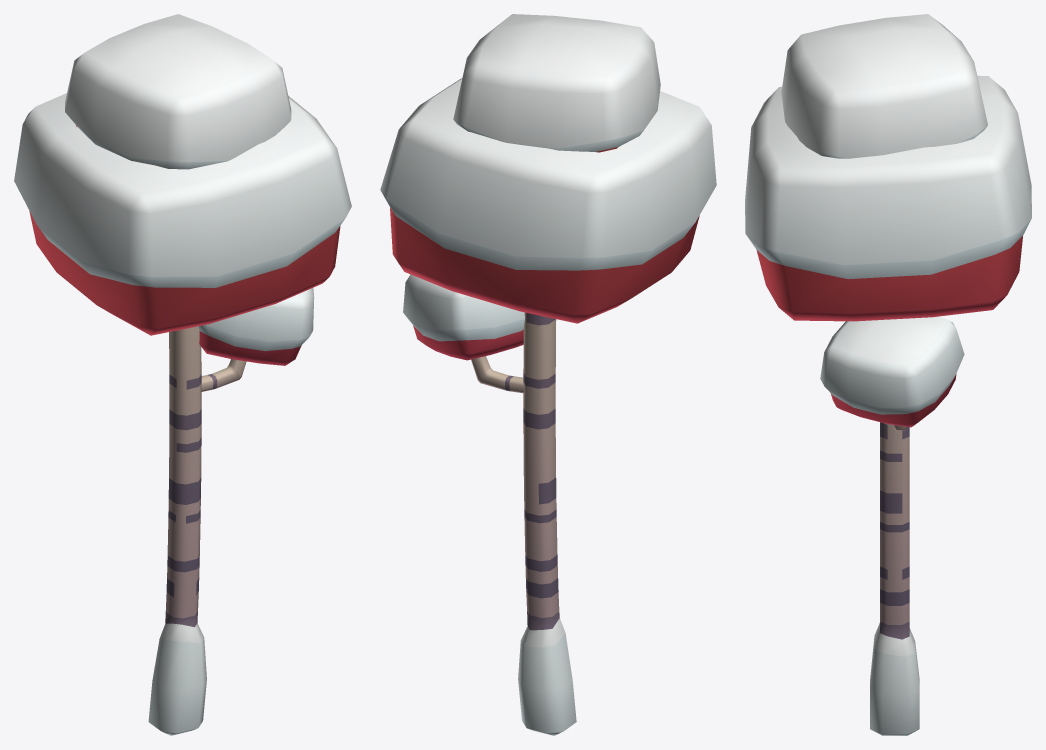
File: birch_tree_SC_04_snow.fbx
3 renders of one model, left to right at view 1: azimuth 30°, elevation 25°; view 2: azimuth 150°, elevation 25°; view 3: azimuth 270°, elevation 25°, orthographic.
Parts seen in each view (by area): view 1: birch_tree_SC_04_snow; view 2: birch_tree_SC_04_snow; view 3: birch_tree_SC_04_snow.
Part boxes in pixels (left/top/right/bottom): birch_tree_SC_04_snow: left=14, top=14, right=351, bottom=735; birch_tree_SC_04_snow: left=380, top=14, right=716, bottom=735; birch_tree_SC_04_snow: left=745, top=14, right=1031, bottom=735.
Size of the model in its own units: 382 by 978 by 370.
1 material, 1 textured.
